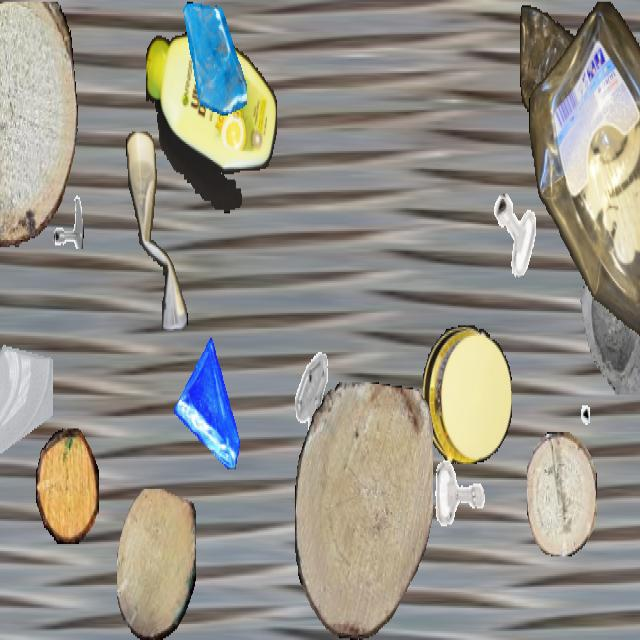glass: (565, 234, 640, 394), (174, 338, 248, 469), (0, 309, 52, 473), (183, 1, 247, 116)
metal: (429, 439, 491, 549), (281, 349, 341, 455), (540, 353, 590, 442), (491, 190, 539, 276), (42, 174, 84, 249), (637, 363, 640, 455)
plastic: (529, 1, 640, 378), (146, 32, 276, 213), (126, 132, 188, 330), (423, 325, 511, 464), (520, 2, 594, 126)
wood: (295, 382, 433, 638), (0, 2, 77, 247), (117, 489, 195, 638), (527, 432, 597, 556), (36, 428, 98, 542)
